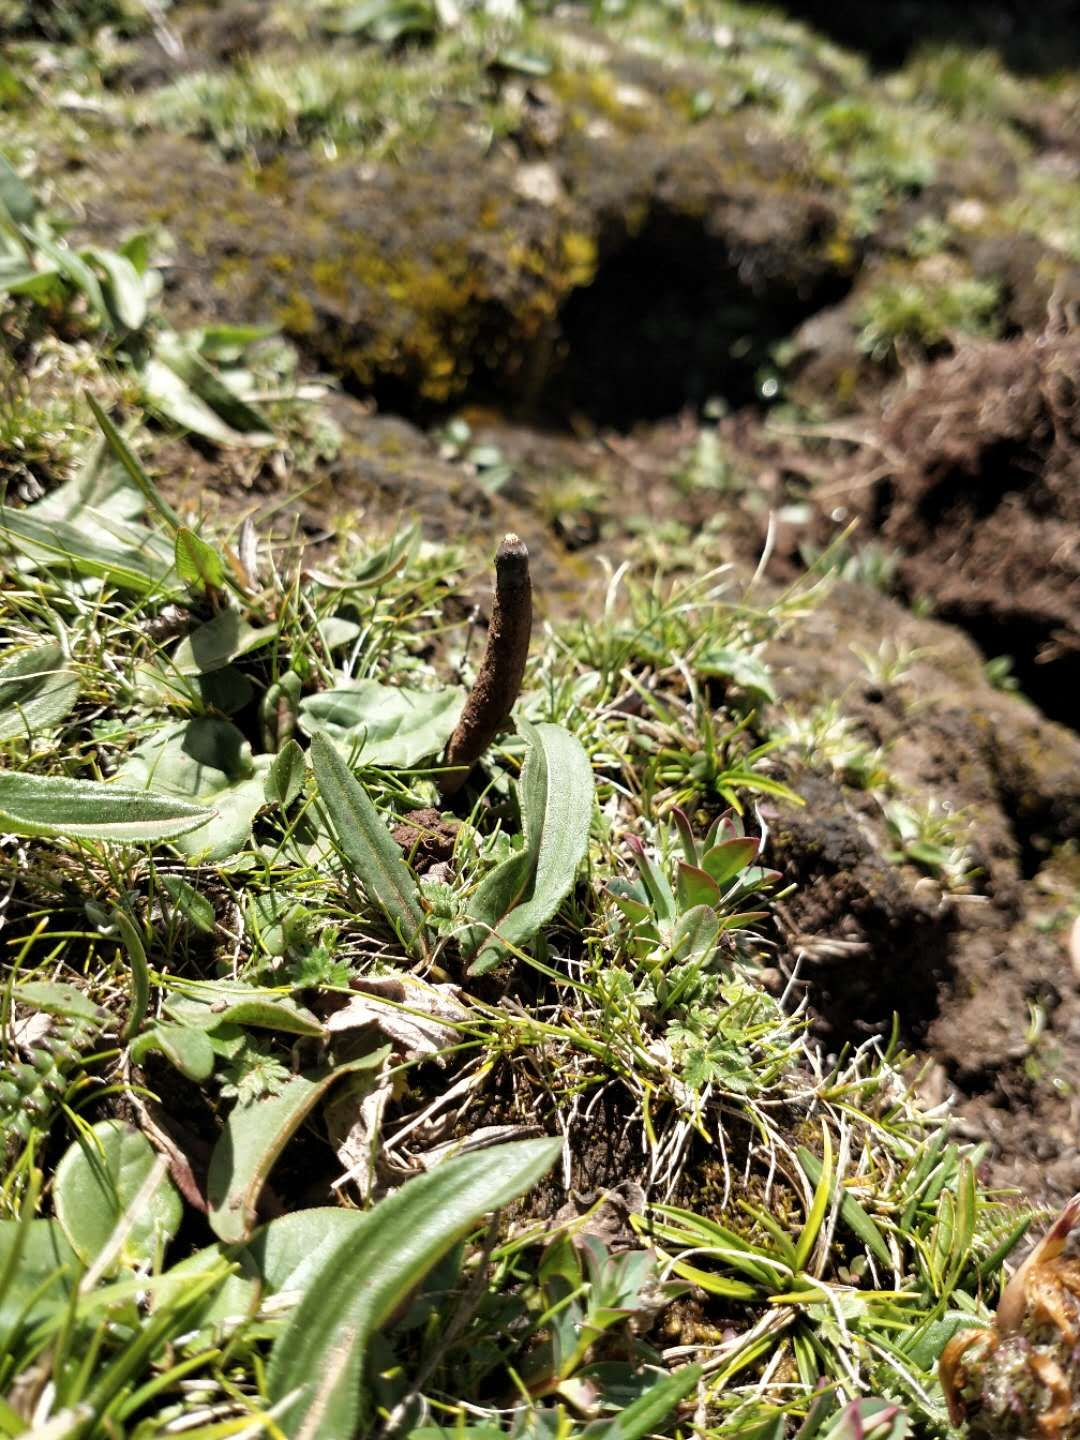Chongcao: (440, 530, 535, 788)
